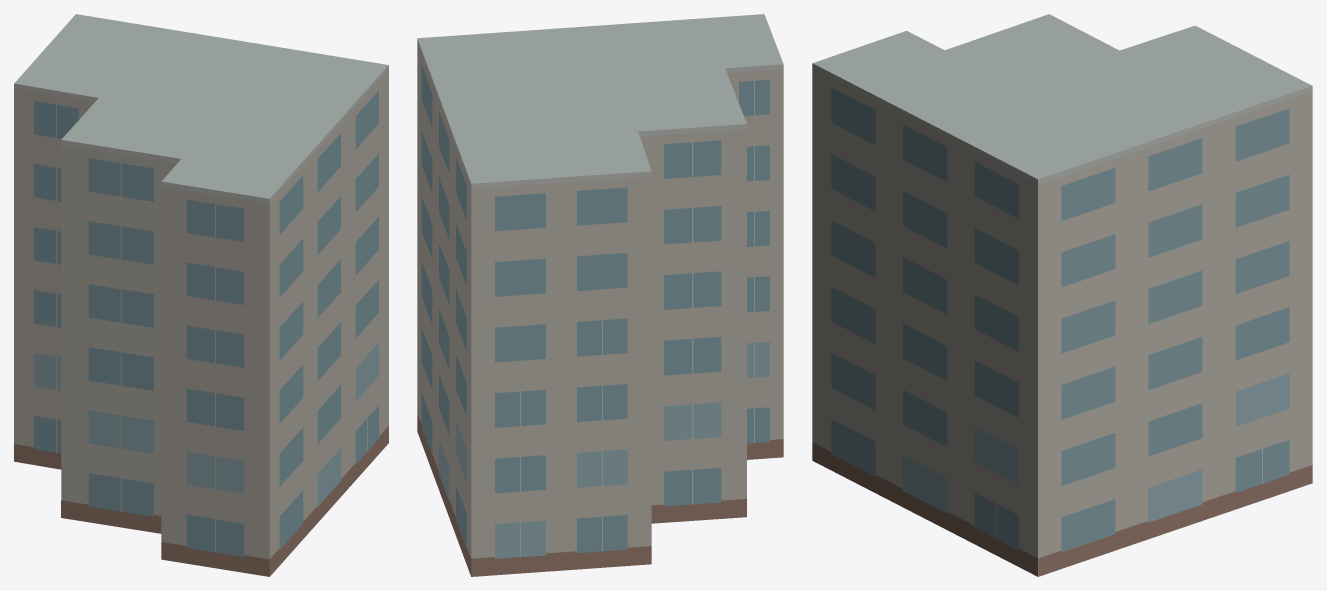
File: survey-upis-32672671.glb
The picture shows the model from 3 angles, left to right: view 1: azimuth 30°, elevation 25°; view 2: azimuth 150°, elevation 25°; view 3: azimuth 270°, elevation 25°; orthographic projection. The views are drawn at different scales.
Visible parts, largest first — view 1: survey-upis-32672671.tmp; view 2: survey-upis-32672671.tmp; view 3: survey-upis-32672671.tmp.
Boxes of the visible parts, box(x1,y1,x2,y2) form: survey-upis-32672671.tmp: box(14, 14, 388, 576); survey-upis-32672671.tmp: box(417, 14, 783, 576); survey-upis-32672671.tmp: box(812, 14, 1312, 576).
Size of the model in its own units: 16.34 by 18.3 by 20.87.
